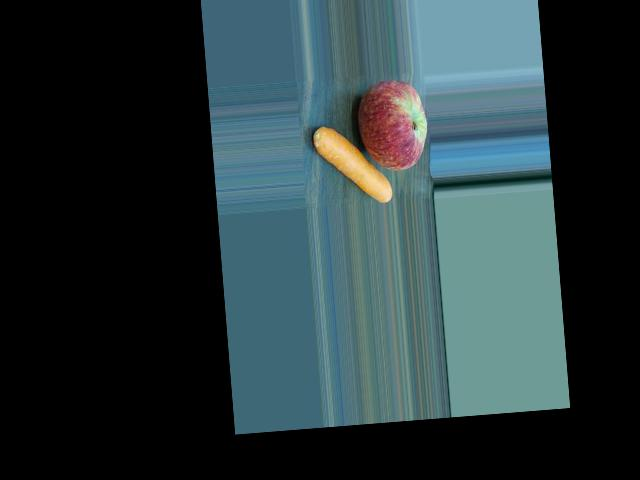carrot: (310, 121, 393, 208)
